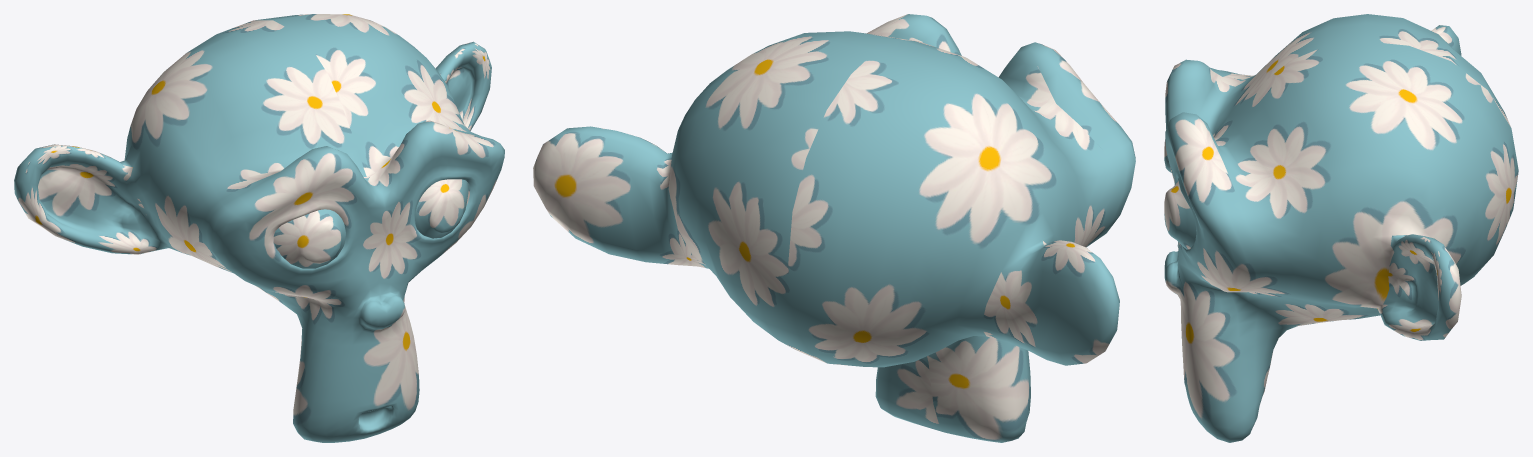
File: sample.glb
3 views of the same model, side by side, from view 1: azimuth 30°, elevation 25°; view 2: azimuth 150°, elevation 25°; view 3: azimuth 270°, elevation 25° (orthographic). The views are drawn at different scales.
Visible parts, largest first — view 1: Suzanne; view 2: Suzanne; view 3: Suzanne.
Boxes of the visible parts, x1,y1,x2,y2 form: Suzanne: (14, 14, 504, 442); Suzanne: (533, 14, 1135, 442); Suzanne: (1164, 14, 1518, 442).
Size of the model in its own units: 2.65 by 1.91 by 1.6.
Materials: 1 (1 with a texture image).
